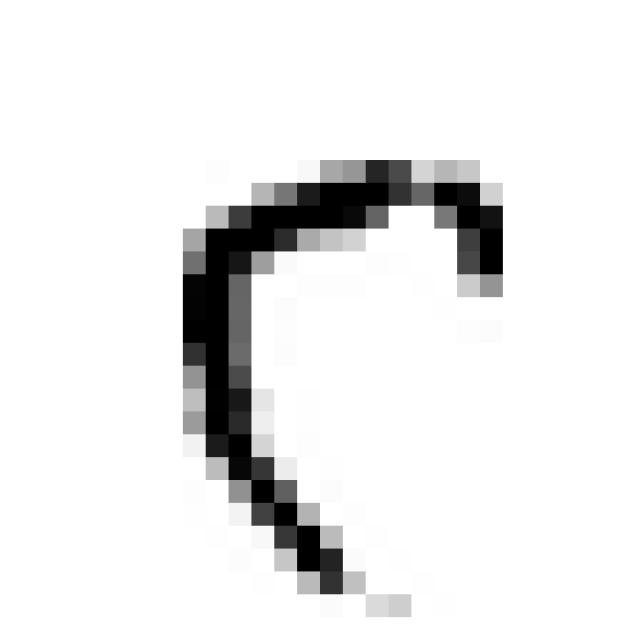2 -two-: (153, 128, 527, 616)
